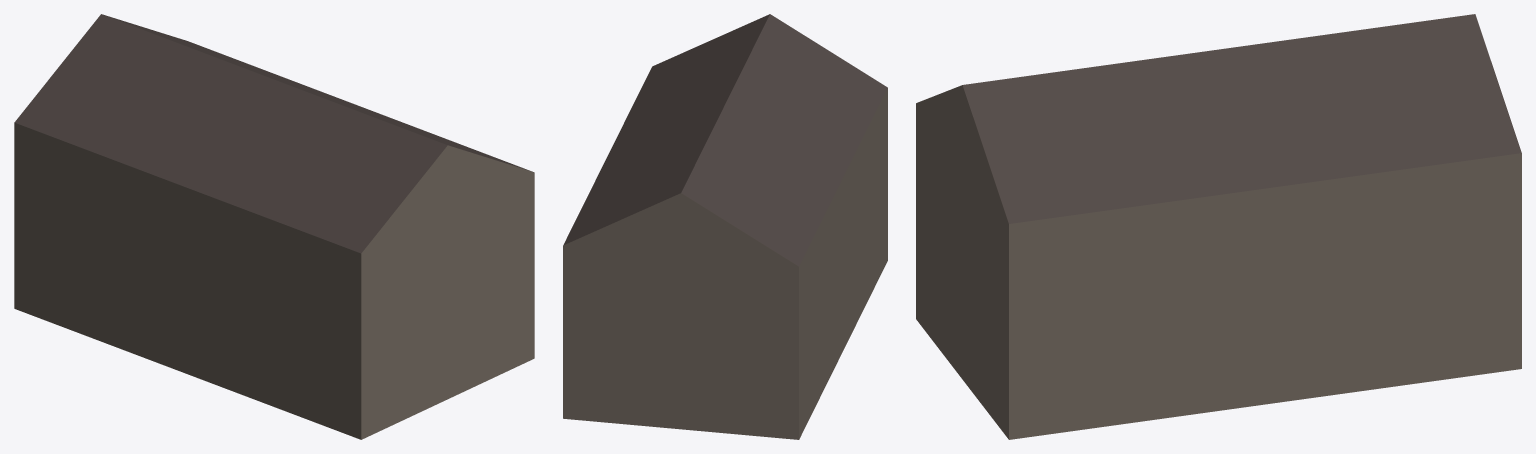
The picture shows the model from 3 angles, left to right: view 1: azimuth 30°, elevation 25°; view 2: azimuth 150°, elevation 25°; view 3: azimuth 270°, elevation 25°; orthographic projection. The views are drawn at different scales.
Visible parts, largest first — view 1: HP-w1435252842; view 2: HP-w1435252842; view 3: HP-w1435252842.
Part boxes in pixels (x1,y1,x2,y2): HP-w1435252842: [14, 14, 534, 439]; HP-w1435252842: [563, 14, 887, 439]; HP-w1435252842: [916, 14, 1521, 439].
Size of the model in its own units: 11.43 by 8.19 by 15.26.
